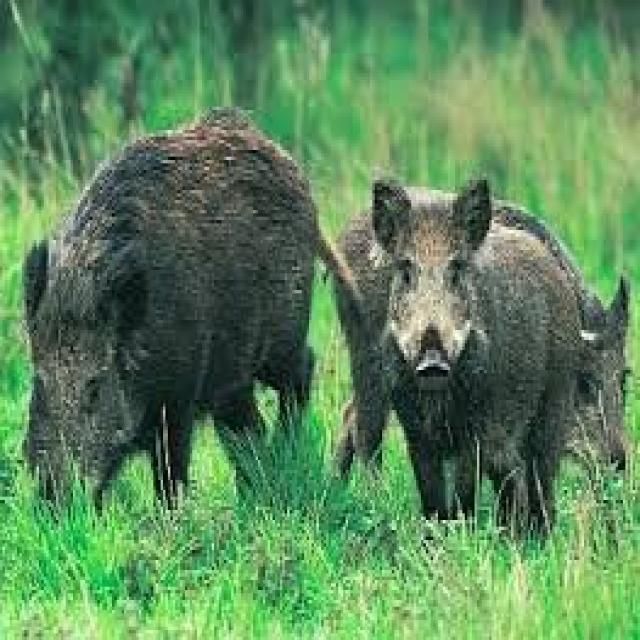Boar: (18, 102, 316, 512), (371, 182, 587, 529)
